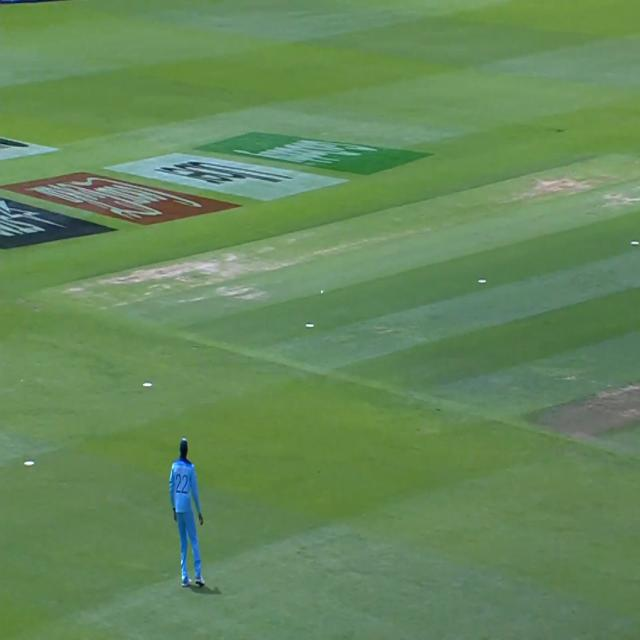ball: (316, 284, 330, 304)
